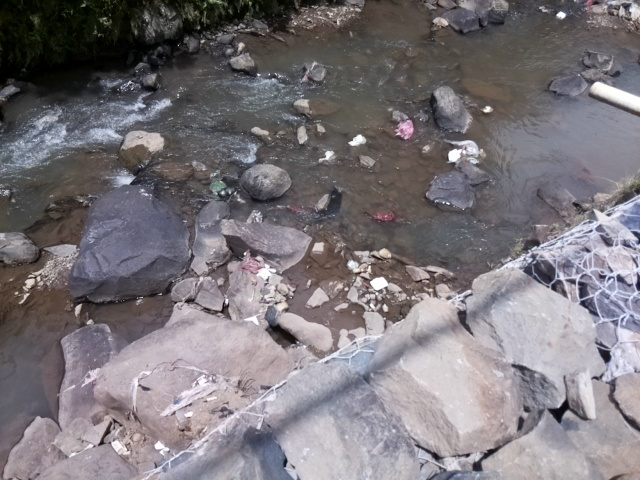Sampah_Plastik: (241, 252, 266, 272), (464, 138, 482, 165), (367, 209, 396, 225), (397, 118, 413, 140), (448, 148, 461, 162)
Sampah_Styrofoam: (367, 275, 389, 290), (346, 134, 366, 146), (557, 10, 565, 20)
